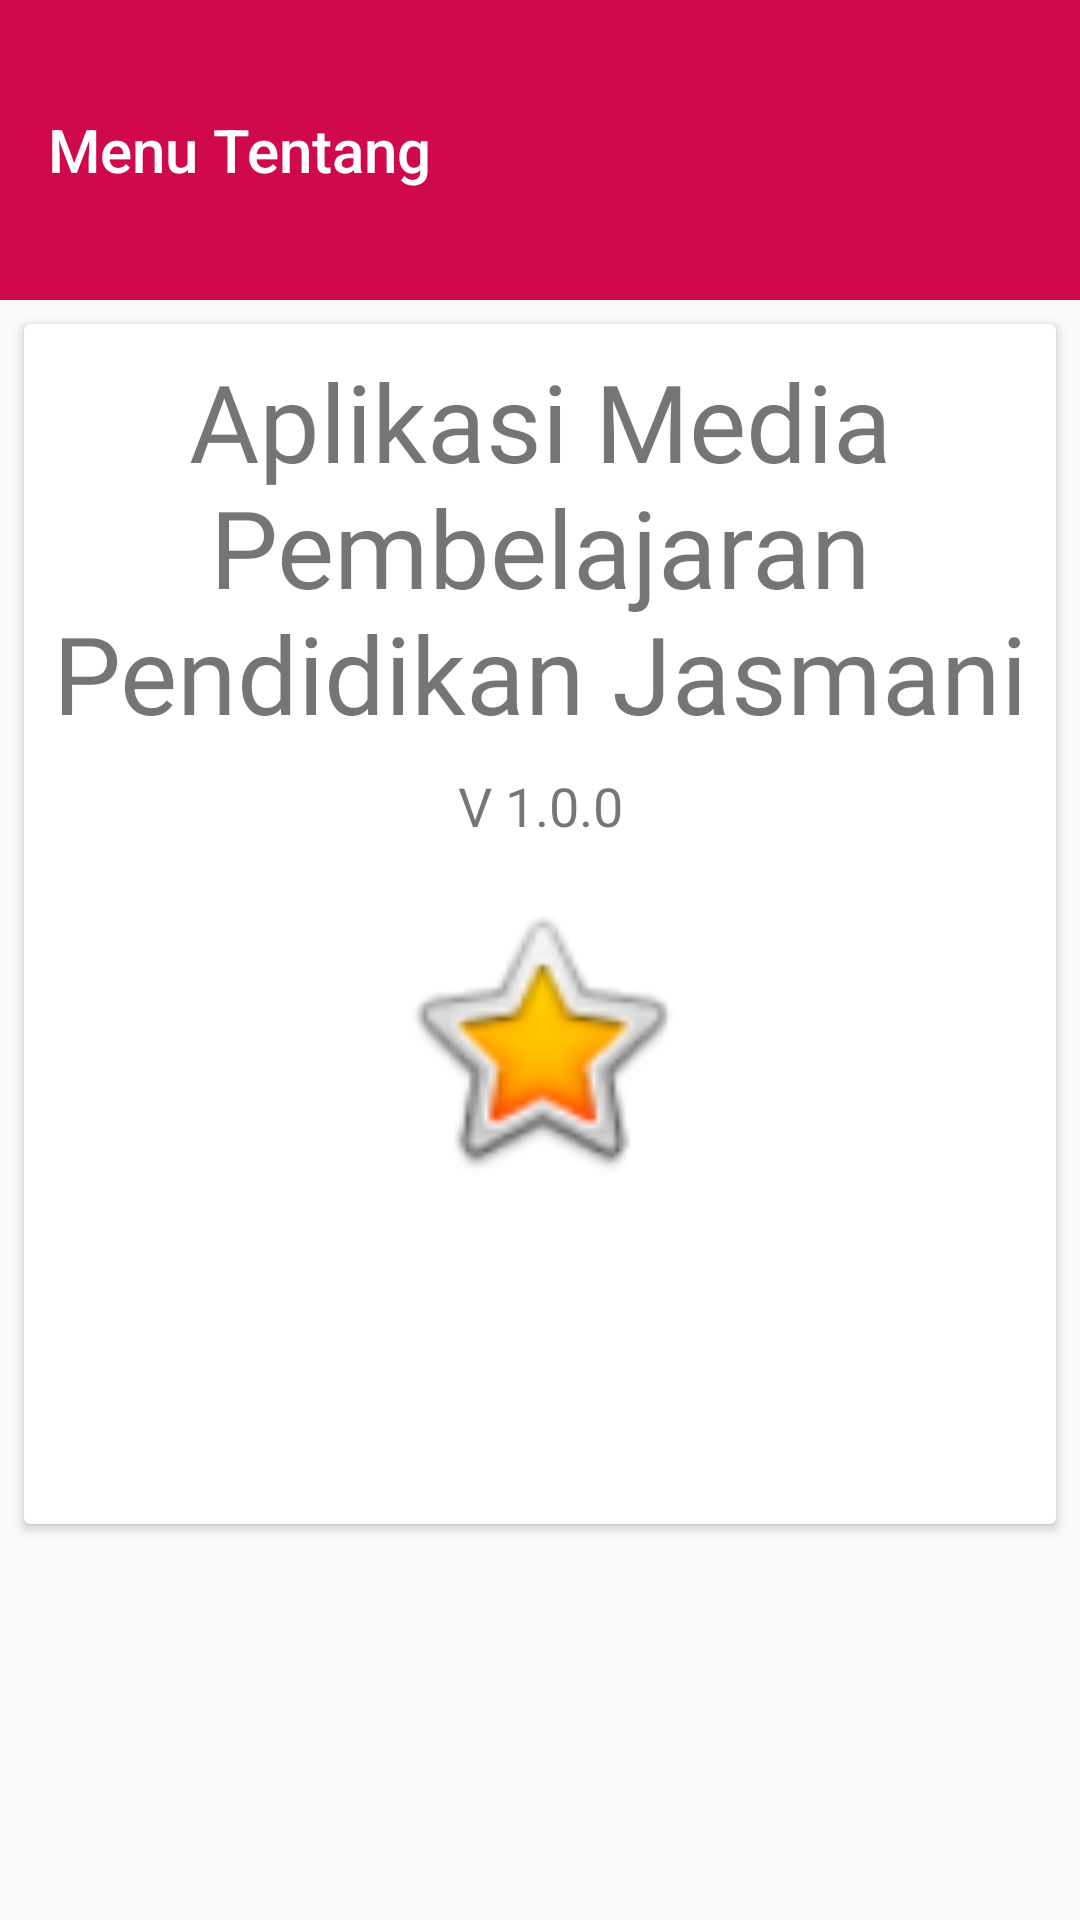

Icons on this 1080 x 1920 Android screen, each with its box as (x1, y1, x2, y2):
star on: (417, 920, 668, 1165)
